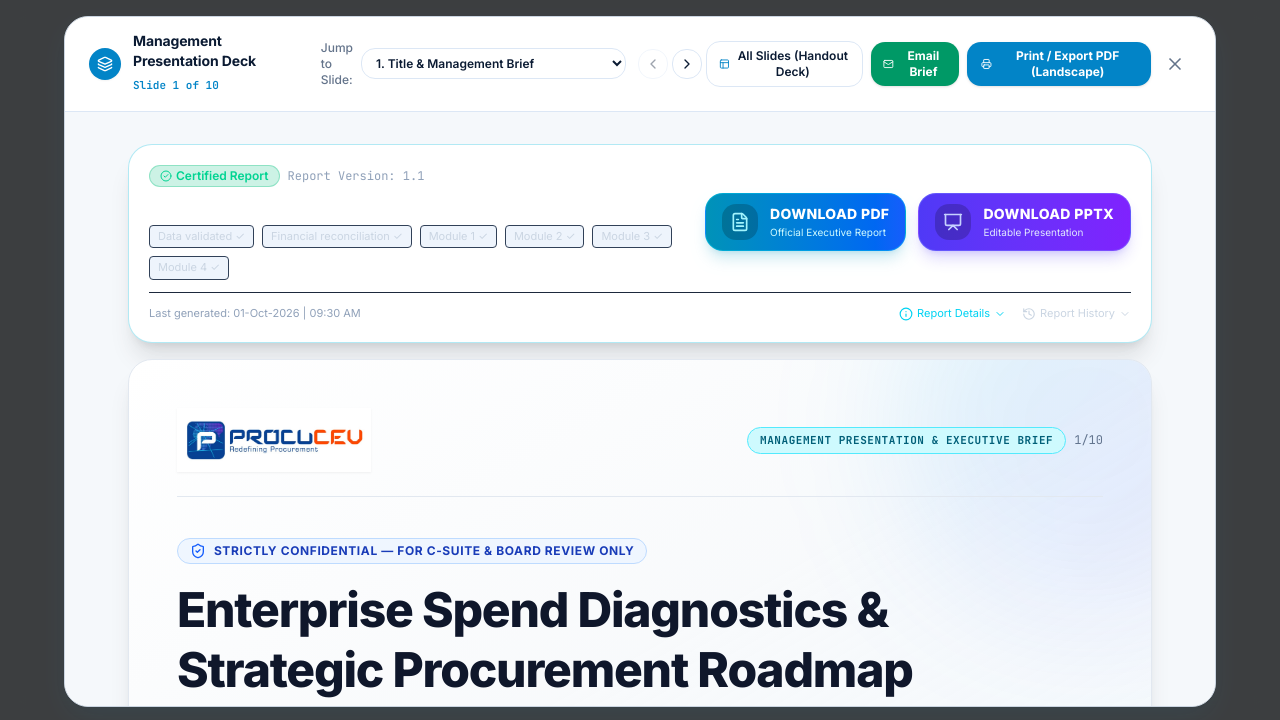
Test: ExecutiveReportModal Component › renders opportunity fallback in slide 9 when empty opportunities list is provided
This screenshot has width=1280, height=720.
Select "9. Actionable Savings Levers" in the dropdown at x=494, y=64, box [361,48,626,79]
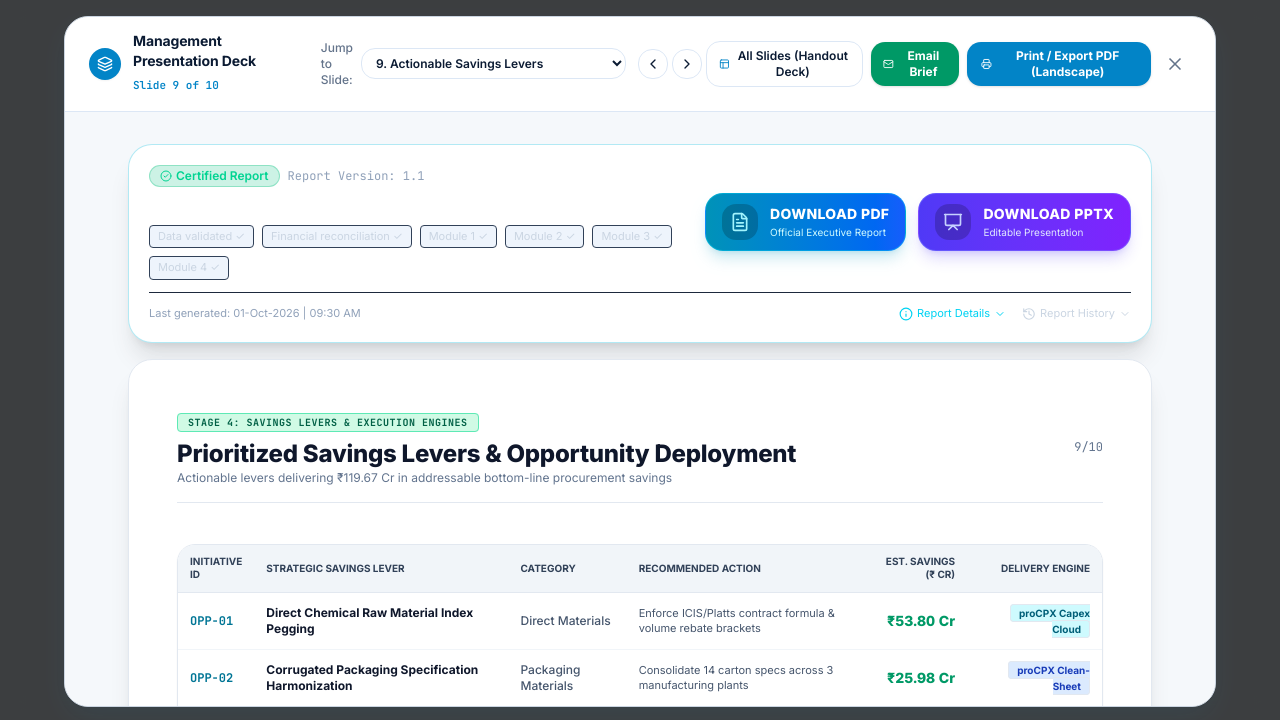
Result: the heading "Prioritized Savings Levers & Opportunity Deployment" is shown at [177,438,796,470]
Result: the text "Direct Chemical Raw Material Index Pegging" is shown at [254,592,508,649]
